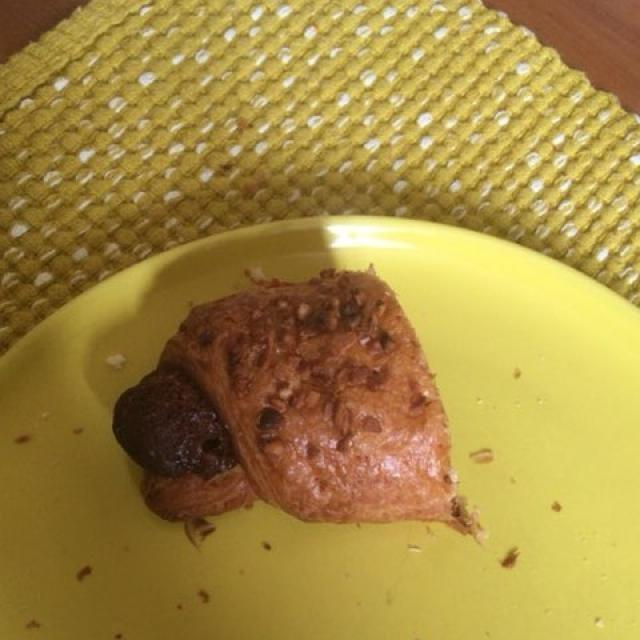croissant: (117, 274, 461, 529)
